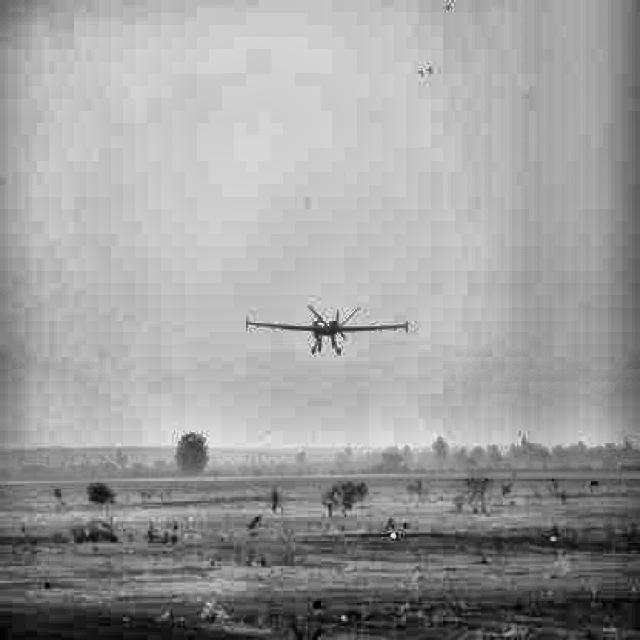MQ9: (246, 306, 408, 354)
